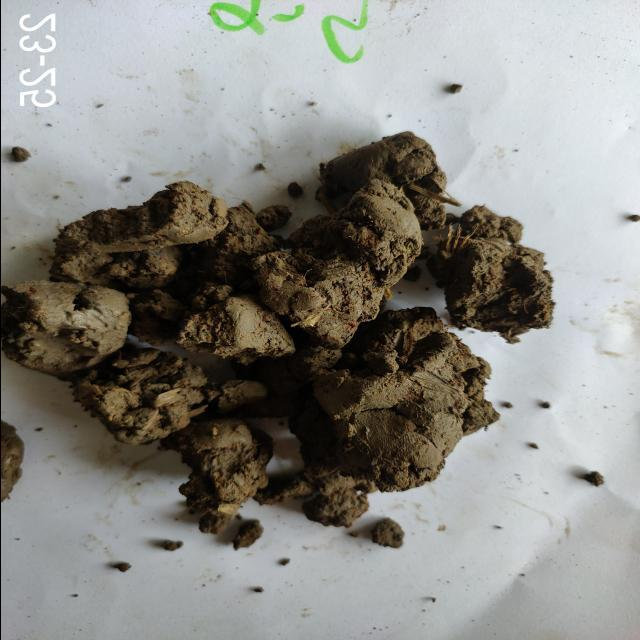soil: (144, 248, 376, 426)
